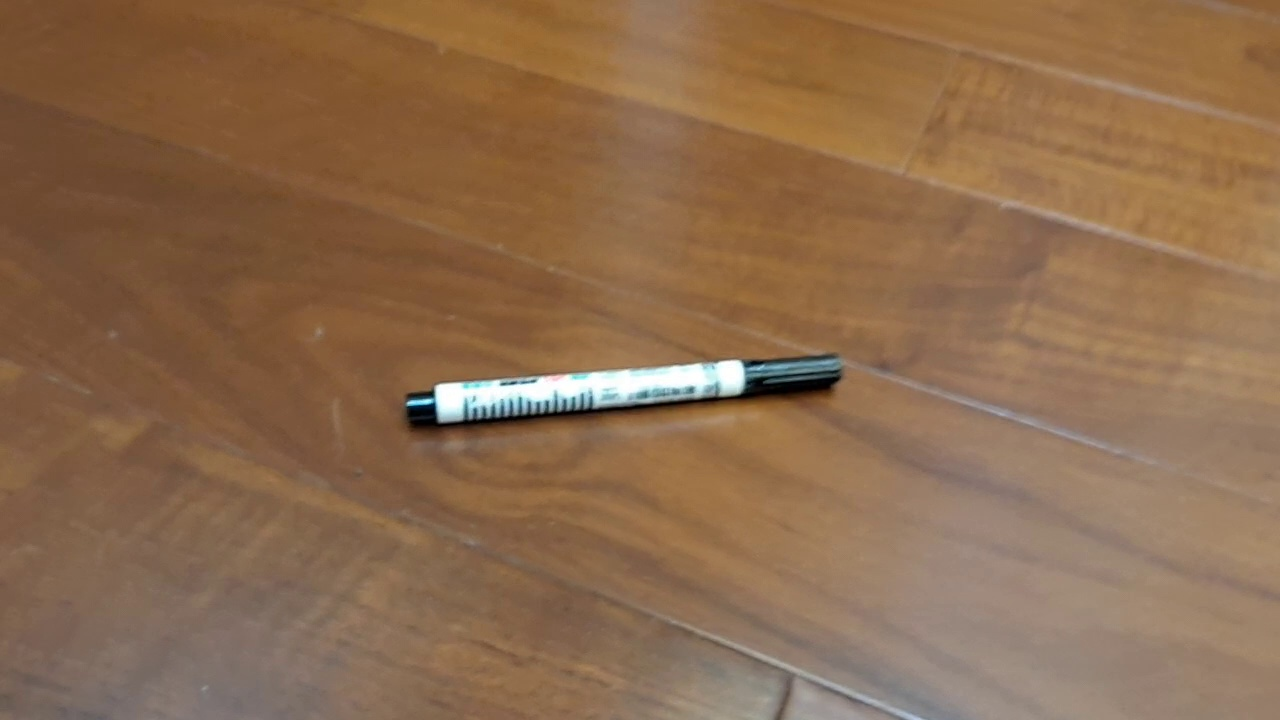pen: (405, 352, 845, 429)
